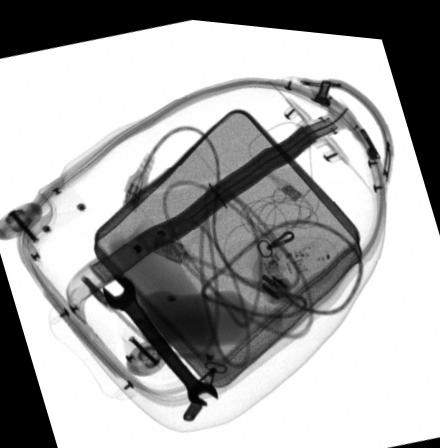Wrench: (101, 271, 217, 401)
